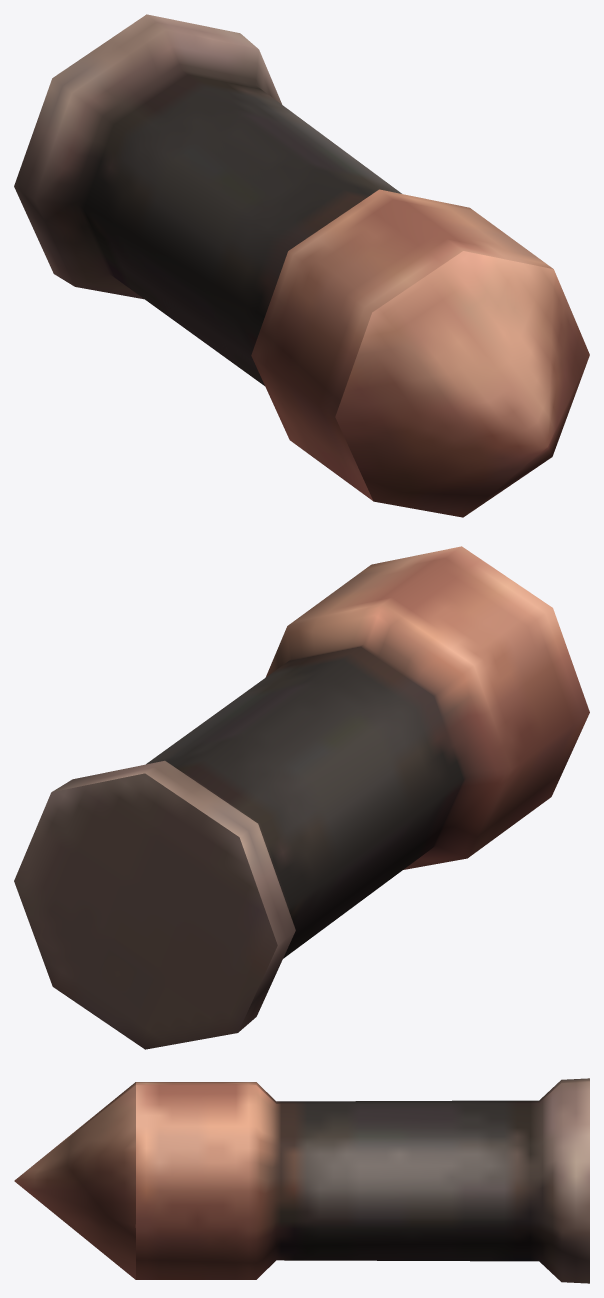
The model's file is Missile_TRUE_FBX.fbx.
3 renders of one model, top to bottom at view 1: azimuth 30°, elevation 25°; view 2: azimuth 150°, elevation 25°; view 3: azimuth 270°, elevation 25°, orthographic. The views are drawn at different scales.
Parts seen in each view (by area): view 1: Missile; view 2: Missile; view 3: Missile.
Part boxes in pixels (box(x1,y1,x2,y2)): Missile: box(14, 14, 589, 517); Missile: box(14, 546, 589, 1049); Missile: box(14, 1078, 589, 1283).
Size of the model in its own units: 0.1458 by 0.3845 by 0.1459.
